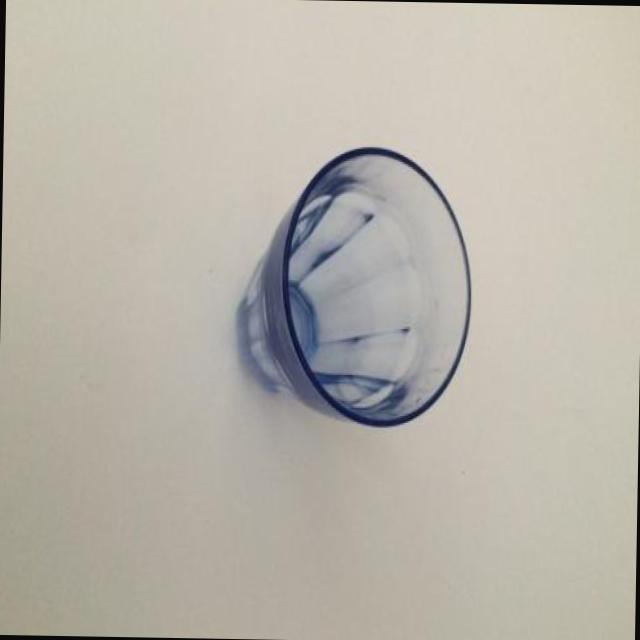chai_thuy_tinh: (235, 147, 473, 431)
